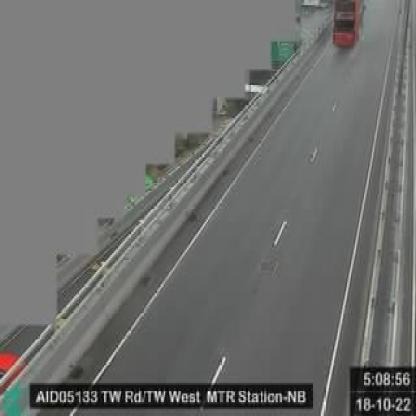Bus: (332, 0, 363, 48)
